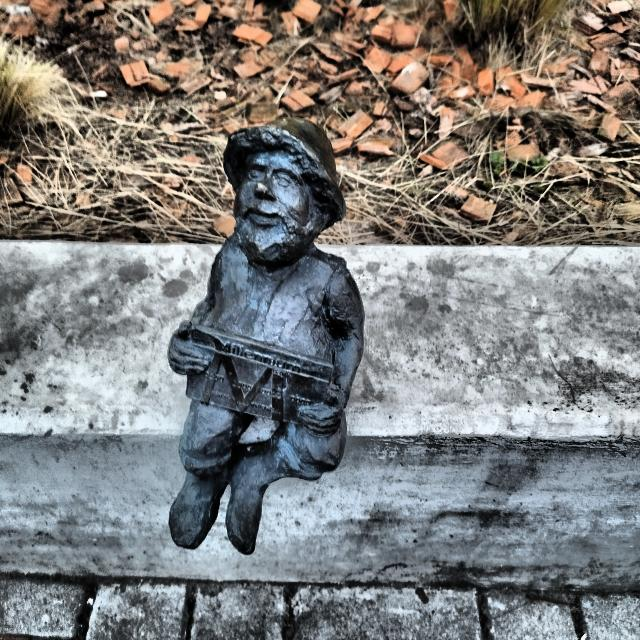Krasnal_Millenniowski: (168, 125, 365, 556)
